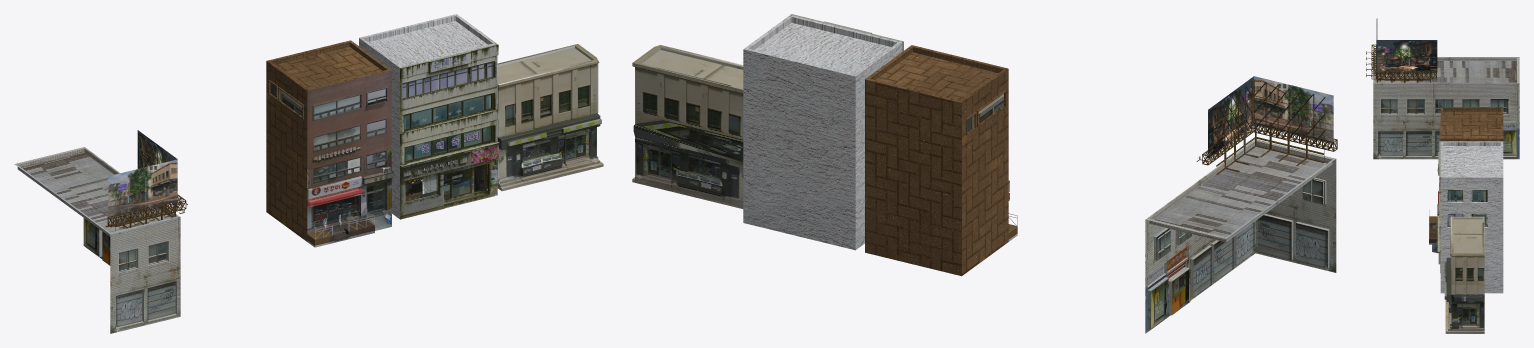
File: street_buildings.glb
3 renders of one model, left to right at view 1: azimuth 30°, elevation 25°; view 2: azimuth 150°, elevation 25°; view 3: azimuth 270°, elevation 25°, orthographic. The views are drawn at different scales.
Visible parts, largest first — view 1: bldB, bldC, bldD, bldA; view 2: bldD, bldB, bldC, bldA; view 3: bldD, bldC, bldA, bldB.
Part boxes in pixels (x1,y1,x2,y2): bldB: (266, 40, 393, 247); bldC: (359, 14, 499, 219); bldD: (14, 130, 187, 333); bldA: (483, 44, 603, 191); bldD: (1145, 76, 1337, 333); bldB: (865, 45, 1017, 276); bldC: (743, 14, 903, 250); bldA: (632, 45, 743, 208); bldD: (1366, 18, 1519, 159); bldC: (1437, 141, 1503, 293); bldA: (1444, 190, 1487, 333); bldB: (1429, 107, 1503, 252).
Bounding box in the file's own units: 15.27 × 4.21 × 4.92.
14 materials, 14 textured.
